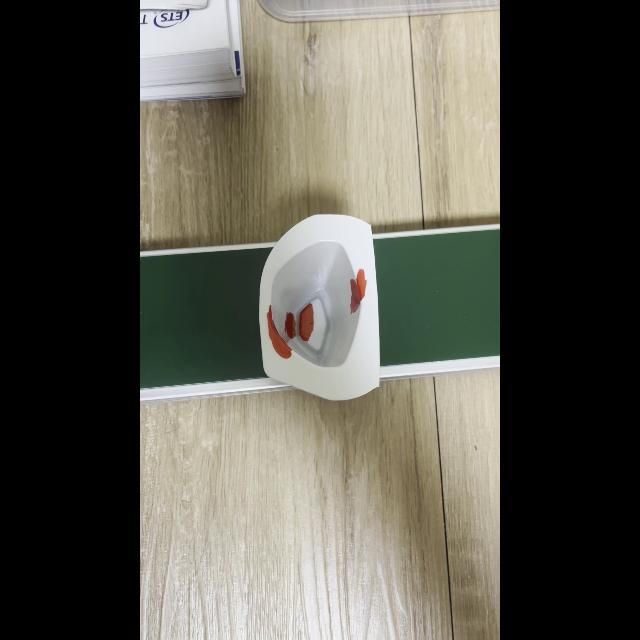dirty: (260, 247, 380, 383)
